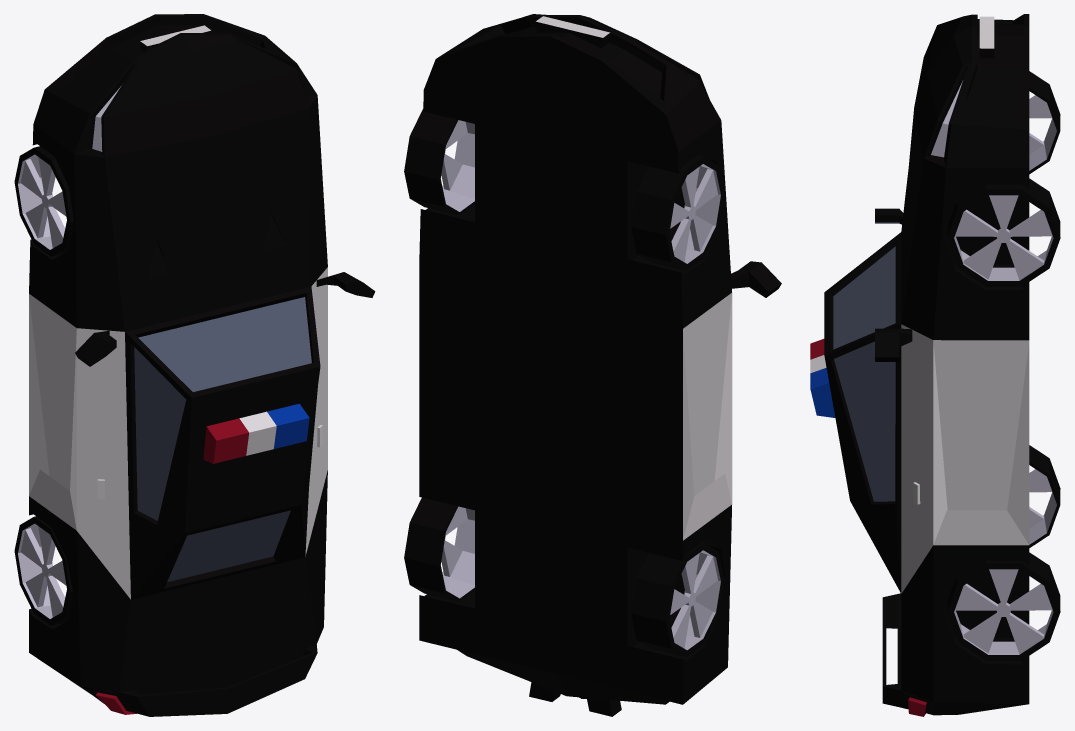
File: Police_Sports.glb
3 renders of one model, left to right at view 1: azimuth 30°, elevation 25°; view 2: azimuth 150°, elevation 25°; view 3: azimuth 270°, elevation 25°, orthographic. The views are drawn at different scales.
Parts seen in each view (by area): view 1: Mesh_0; view 2: Mesh_0; view 3: Mesh_0.
Boxes of the visible parts, left/top/right/bottom form: Mesh_0: left=14, top=14, right=375, bottom=716; Mesh_0: left=404, top=14, right=781, bottom=716; Mesh_0: left=810, top=14, right=1060, bottom=716.
Bounding box in the file's own units: 2.63 × 5.73 × 1.95.
